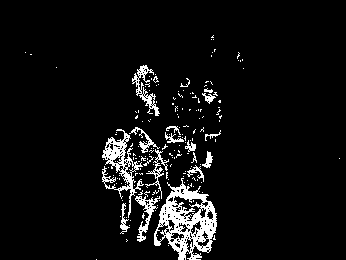person: (169, 168, 216, 260), (132, 127, 163, 246), (103, 127, 135, 236), (202, 80, 225, 175), (130, 62, 163, 126), (175, 76, 196, 139)
